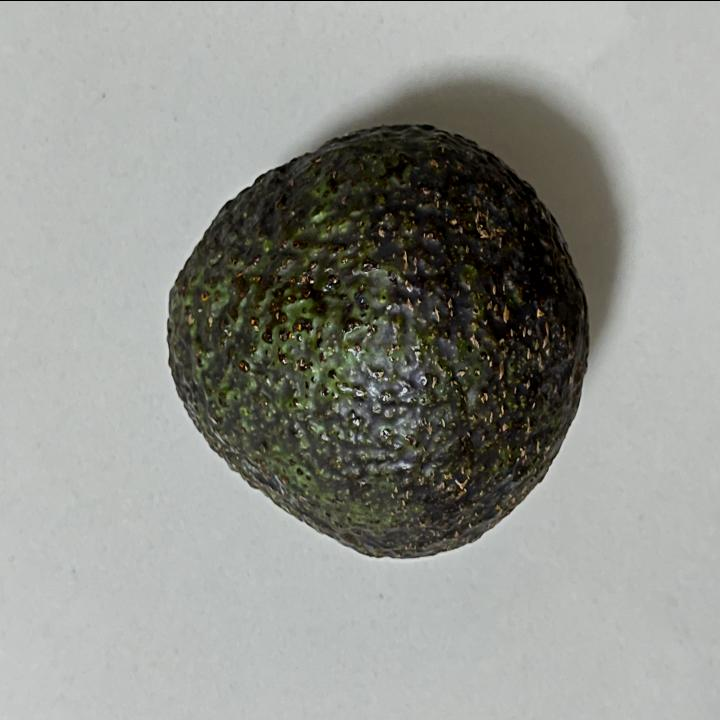Level2: (158, 114, 596, 568)
